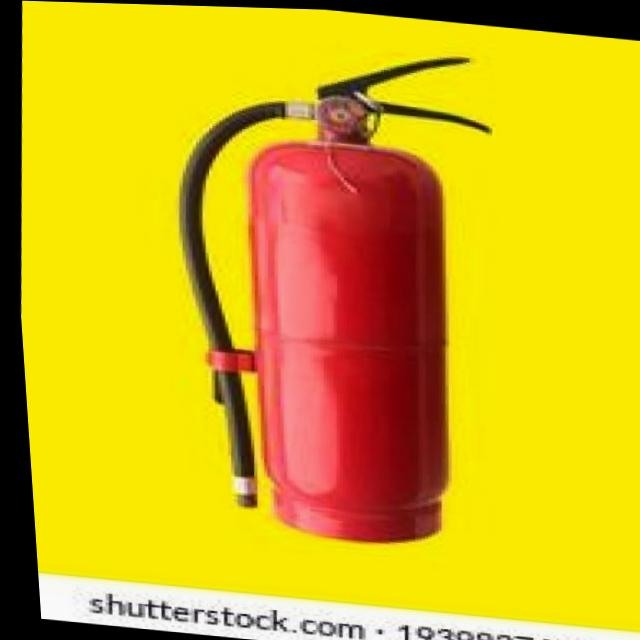FireExtinguisher: (132, 17, 523, 555)
